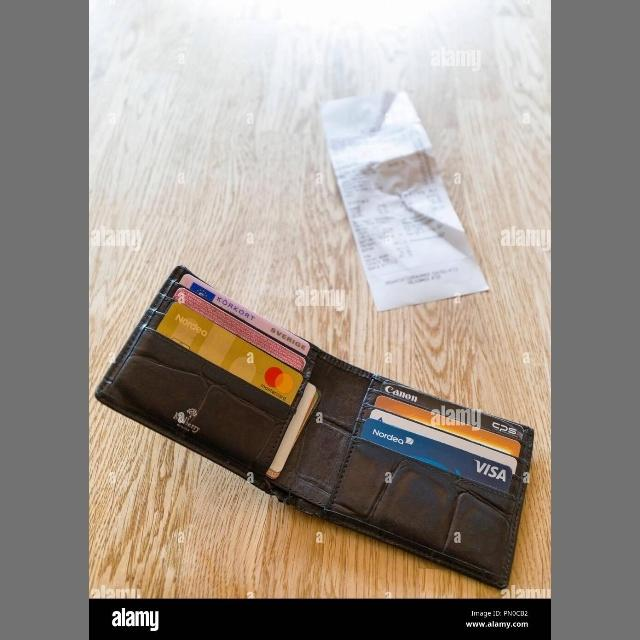Wallet: (113, 250, 552, 570)
